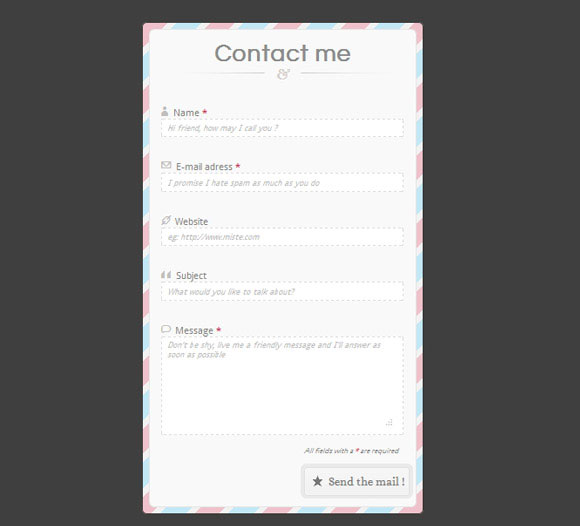button: (299, 462, 414, 499)
field: (157, 334, 405, 437), (161, 116, 406, 139), (158, 170, 404, 192), (159, 225, 405, 247), (159, 280, 405, 302)
